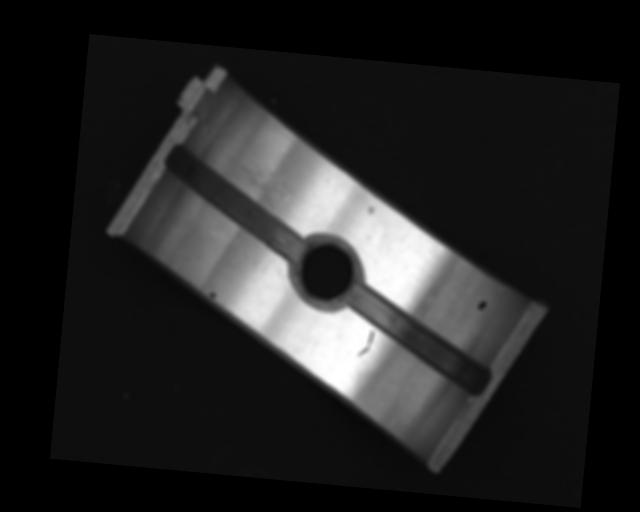blot: (476, 299, 488, 312), (207, 291, 217, 300)
bruise: (366, 205, 375, 217)
gap: (159, 144, 313, 263), (343, 281, 491, 393)
hole: (288, 235, 362, 312)
nick: (357, 328, 375, 358)
scratch: (219, 152, 291, 216)
